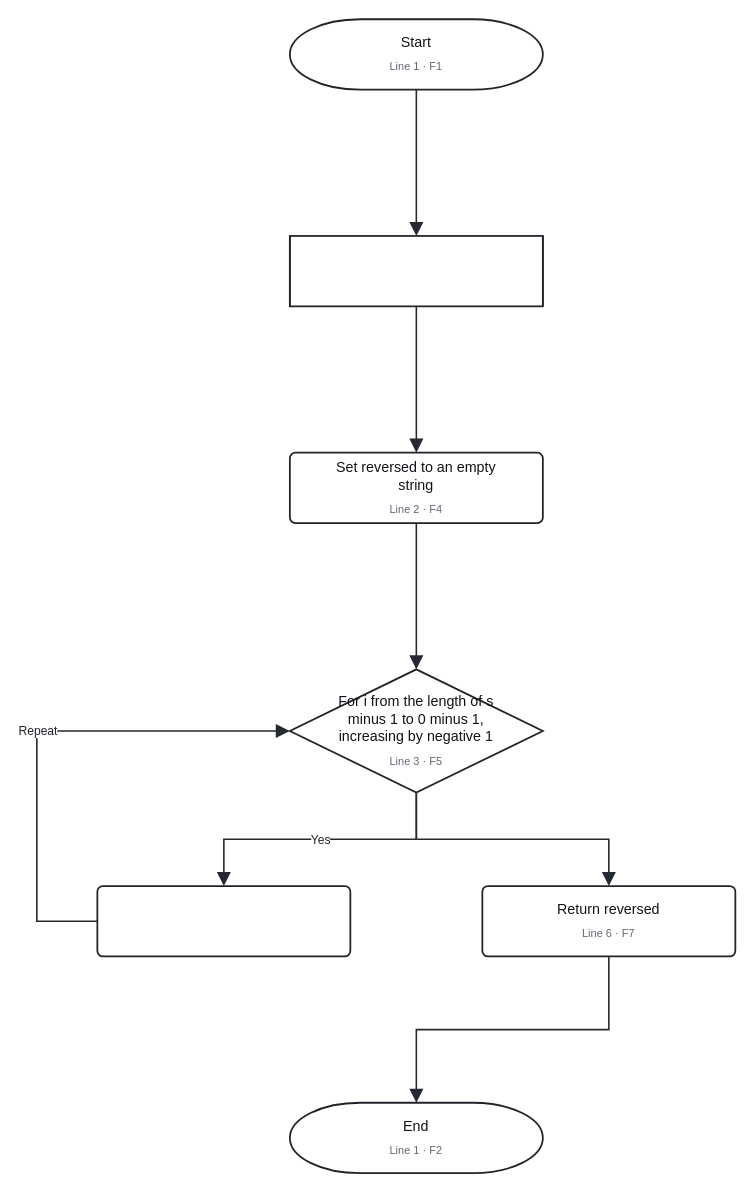
This 756x1194 diagram has some shape labels left out. Each missing label, with the centre of its shape:
Run function REVERSE_STRING with s Line 1 · F3: [415,271]
Set reversed to reversed plus item i of s Line 4 · F6: [223,921]
